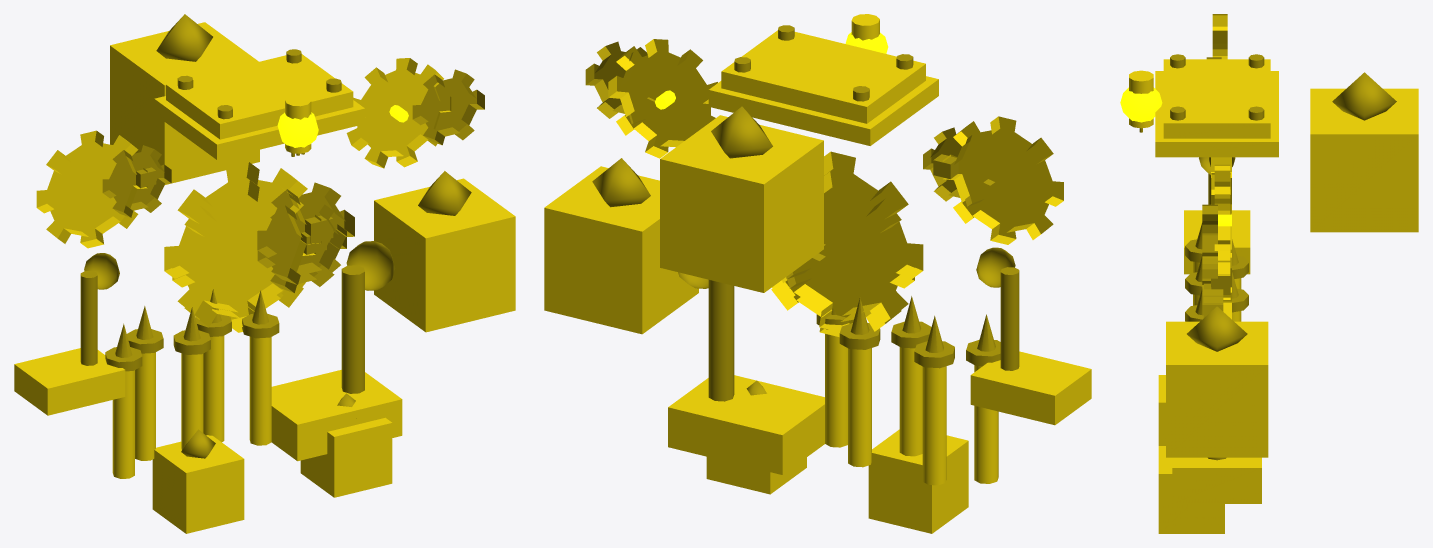
File: golem_089.glb
3 views of the same model, side by side, from view 1: azimuth 30°, elevation 25°; view 2: azimuth 150°, elevation 25°; view 3: azimuth 270°, elevation 25° (orthographic). The views are drawn at different scales.
Parts seen in each view (by area): view 1: Body, Detail, Glow; view 2: Body, Detail, Glow; view 3: Body, Detail, Glow.
Boxes of the visible parts, x1,y1,x2,y2 form: Body: (14,22,515,533); Detail: (80,14,484,458); Glow: (277,105,408,147); Body: (544,14,1091,533); Detail: (585,25,1019,401); Glow: (655,32,888,109); Body: (1129,14,1418,533); Detail: (1139,54,1396,460); Glow: (1120,87,1231,226).
Bounding box in the file's own units: 1.4 × 1.22 × 0.8007.
